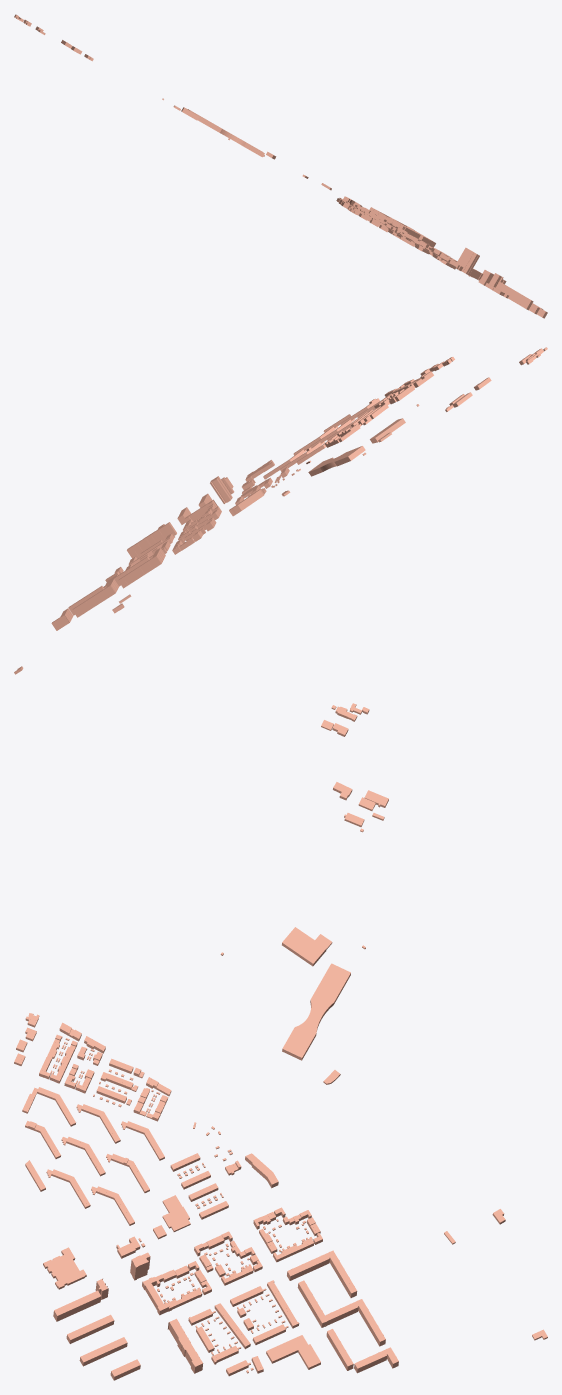
The picture shows the model from 3 angles, top to bottom: view 1: azimuth 30°, elevation 25°; view 2: azimuth 150°, elevation 25°; view 3: azimuth 270°, elevation 25°; orthographic projection. The views are drawn at different scales.
Bounding box in the file's own units: 1001 × 738 × 856.
